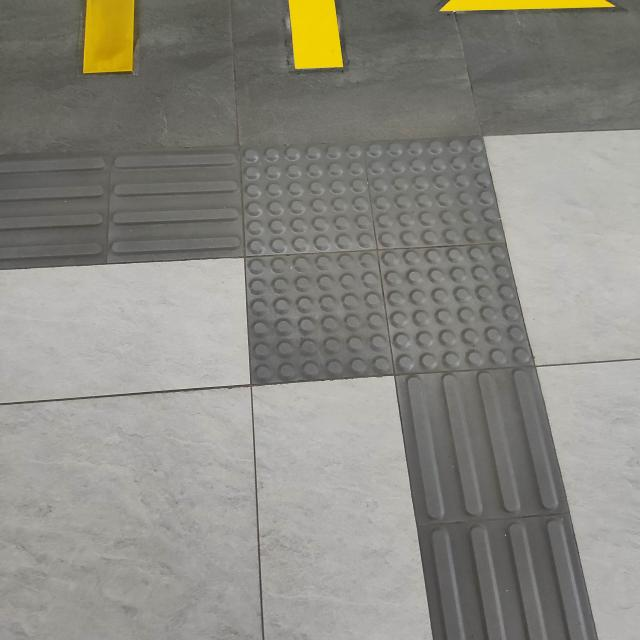kiri: (44, 78, 630, 503)
